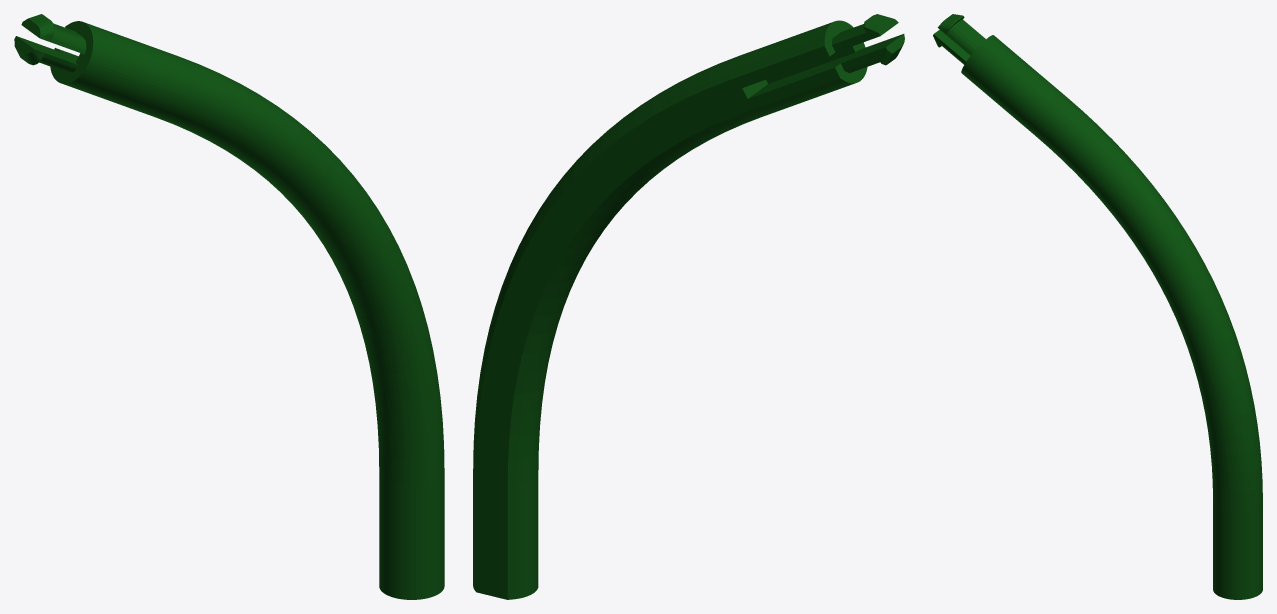
Rendered from stem_3A_60_L.glb.
3 views of the same model, side by side, from view 1: azimuth 30°, elevation 25°; view 2: azimuth 150°, elevation 25°; view 3: azimuth 330°, elevation 25° (orthographic). The views are drawn at different scales.
Parts seen in each view (by area): view 1: stem_3A_60_L; view 2: stem_3A_60_L; view 3: stem_3A_60_L.
Part boxes in pixels (x1,y1,x2,y2): stem_3A_60_L: (14,14,444,599); stem_3A_60_L: (473,14,904,599); stem_3A_60_L: (933,14,1262,599).
Size of the model in its own units: 0.0535 by 0.0799 by 0.00666.
